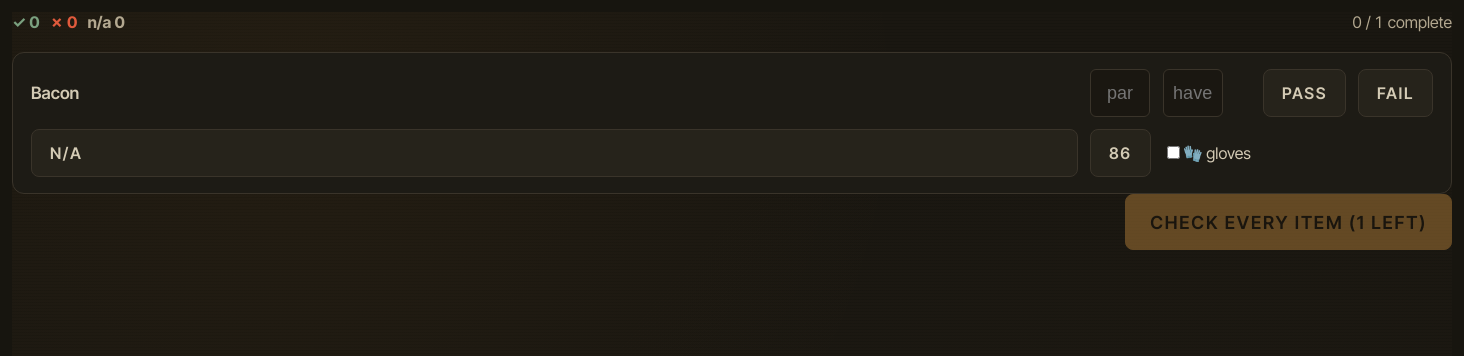
Scenario: StationChecklist 86 — failure surfacing › /api/eighty-six succeeds, /api/checks fails — inline error names the partial state
Click the button named "86 Bacon".
click(1120, 153)  # box [1090, 129, 1151, 177]
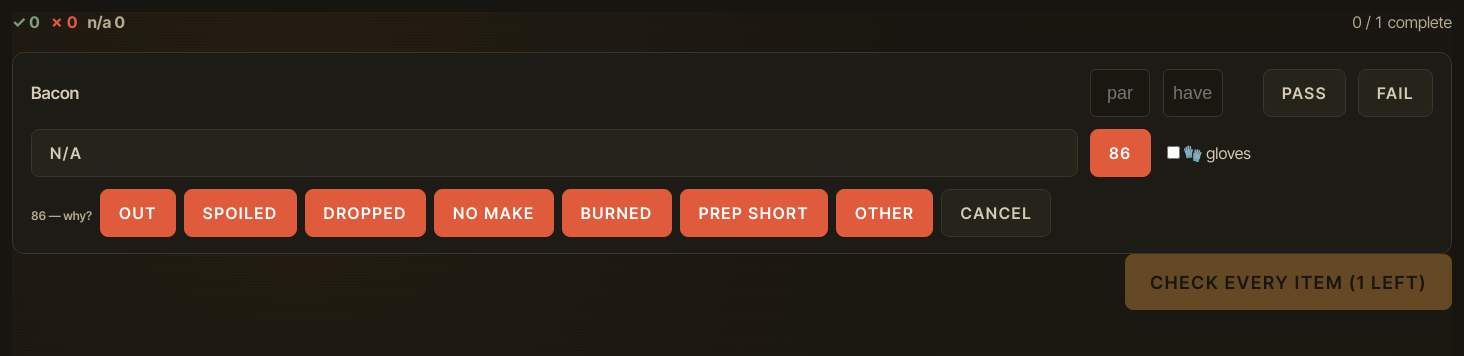
Click the button "Out".
click(138, 213)  # box [100, 189, 176, 237]
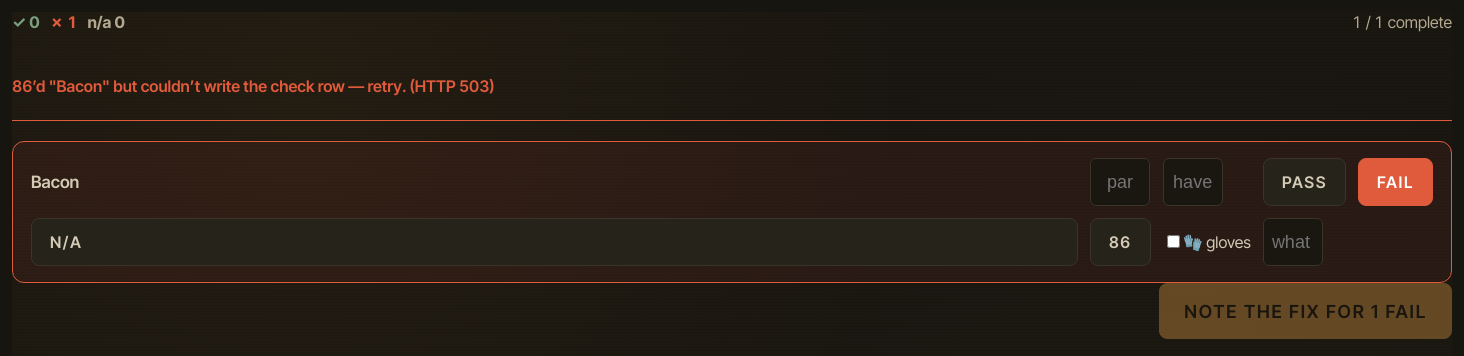
Check: the message "86’d \"Bacon\" but couldn’t write the check row — retry. (HTTP 503)" is shown, box [12, 52, 1452, 121]
